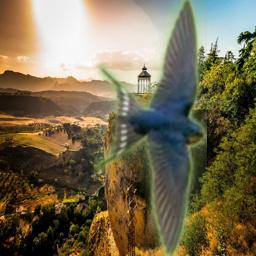Swallow: (94, 0, 207, 256)
